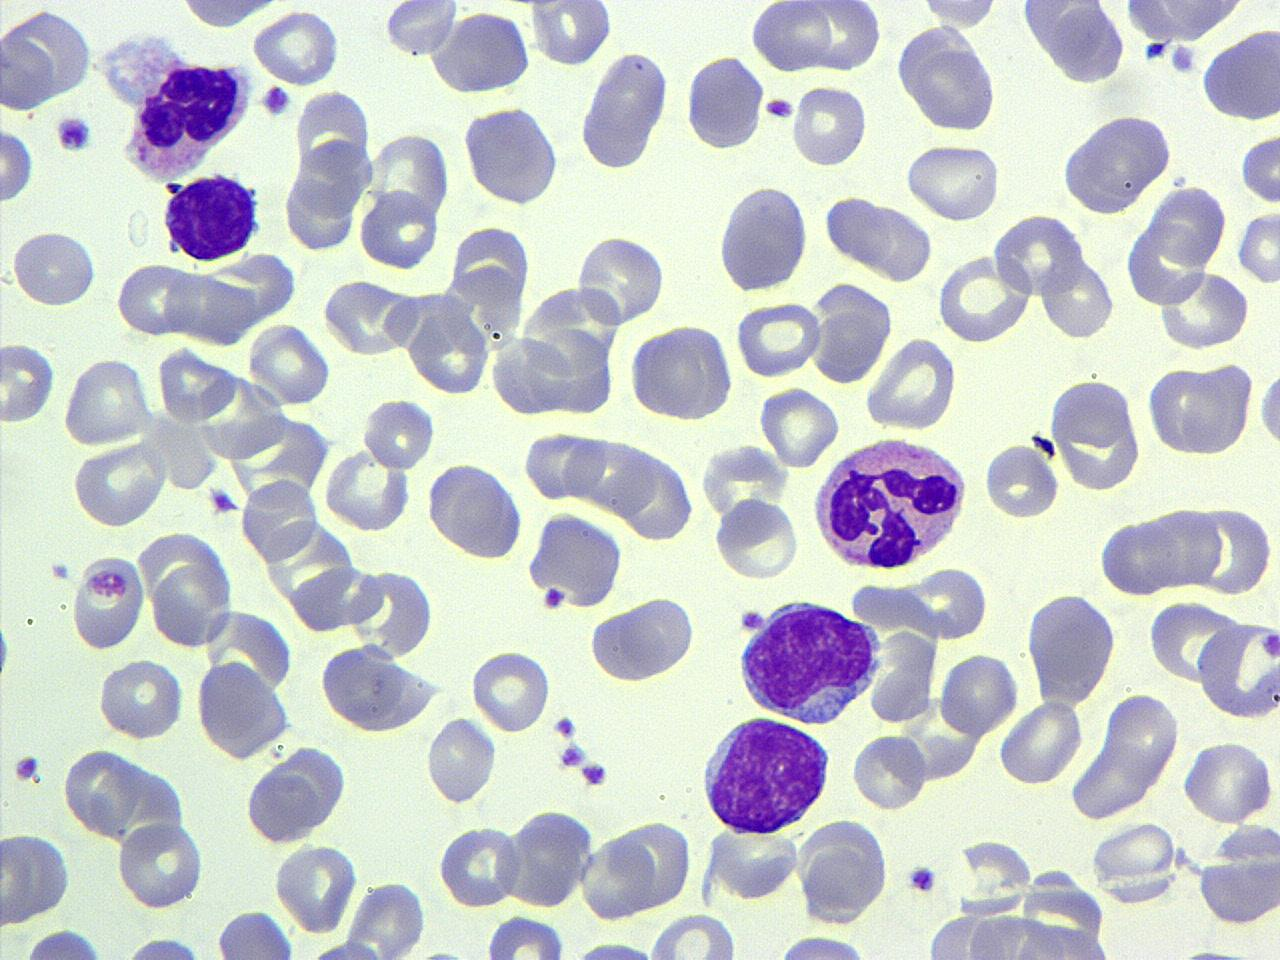Platelets: (984, 439, 1063, 518), (1254, 365, 1280, 454), (55, 112, 94, 155), (260, 83, 293, 119), (1181, 942, 1245, 960), (207, 484, 242, 516), (905, 862, 937, 894), (11, 751, 42, 785), (1168, 43, 1198, 75), (762, 95, 796, 122), (0, 618, 14, 684), (557, 744, 590, 772), (578, 760, 608, 788), (418, 943, 466, 960), (738, 608, 769, 632), (552, 714, 580, 741), (1142, 40, 1170, 63), (48, 560, 72, 582), (164, 178, 186, 194)
RBC: (485, 326, 620, 419), (1060, 110, 1176, 217), (319, 642, 440, 737), (1024, 588, 1119, 708), (1048, 377, 1146, 493), (626, 320, 737, 422), (717, 181, 810, 293), (793, 817, 889, 926), (425, 460, 525, 562), (586, 598, 696, 686), (935, 249, 1033, 346), (863, 334, 957, 434), (2, 5, 94, 107), (429, 8, 534, 96), (1195, 821, 1280, 929), (808, 280, 894, 386), (501, 806, 592, 906), (1195, 616, 1279, 724), (574, 231, 666, 328), (69, 442, 168, 530), (902, 140, 1004, 224), (992, 211, 1084, 301), (1172, 357, 1254, 458), (1146, 596, 1238, 686), (116, 819, 206, 911), (1181, 738, 1275, 826), (912, 37, 998, 133), (1123, 220, 1215, 308), (273, 840, 360, 934), (319, 275, 416, 359), (61, 355, 149, 447), (684, 54, 766, 152), (410, 303, 492, 398), (97, 654, 185, 742), (1158, 267, 1250, 352), (1196, 500, 1274, 599), (713, 495, 800, 582), (321, 448, 410, 532), (70, 552, 144, 652), (998, 701, 1084, 788), (470, 646, 554, 734), (151, 561, 235, 649), (564, 433, 656, 513), (703, 828, 802, 903), (1, 826, 73, 929), (8, 228, 99, 309), (163, 267, 255, 347), (356, 187, 440, 272), (155, 341, 239, 428), (63, 744, 140, 838), (247, 320, 332, 404), (734, 298, 822, 379), (241, 476, 321, 566), (757, 383, 842, 467), (937, 648, 1018, 736), (438, 822, 519, 910), (252, 6, 340, 87), (1070, 738, 1154, 822), (1105, 692, 1179, 786), (292, 560, 384, 635), (580, 832, 655, 924), (618, 818, 691, 912), (1147, 182, 1227, 267), (1089, 818, 1176, 894), (792, 81, 868, 169), (1145, 505, 1225, 589), (425, 713, 497, 805), (113, 260, 197, 338), (850, 728, 927, 812), (982, 438, 1058, 522), (792, 0, 883, 71), (348, 879, 428, 958), (522, 428, 606, 503), (1041, 255, 1117, 339), (1098, 516, 1176, 595), (750, 0, 831, 76), (284, 172, 358, 255), (860, 200, 934, 280), (361, 394, 436, 472), (1120, 0, 1254, 42), (528, 0, 612, 68), (0, 28, 57, 113), (1, 340, 56, 428), (382, 0, 460, 58), (646, 910, 737, 959), (215, 906, 297, 958), (484, 911, 566, 959), (172, 0, 284, 32), (0, 833, 36, 928), (1236, 207, 1280, 283), (21, 925, 112, 960), (1238, 130, 1280, 206), (769, 932, 876, 960), (0, 122, 35, 206), (916, 0, 1006, 30), (304, 936, 400, 960)
WBC: (96, 29, 258, 183), (809, 431, 972, 577), (735, 595, 882, 728), (699, 712, 833, 838), (1059, 108, 1175, 217), (318, 642, 449, 738), (894, 19, 1004, 130), (578, 47, 672, 172), (193, 651, 296, 762), (246, 740, 352, 846), (462, 101, 564, 209), (628, 320, 734, 424), (1024, 587, 1116, 706), (495, 325, 618, 413), (716, 182, 811, 292), (526, 510, 630, 612), (427, 459, 526, 562), (160, 170, 266, 264), (430, 7, 536, 99), (1020, 0, 1131, 86), (592, 596, 698, 684), (1197, 819, 1280, 930), (1199, 23, 1279, 126), (1115, 0, 1255, 41), (102, 930, 218, 960)
